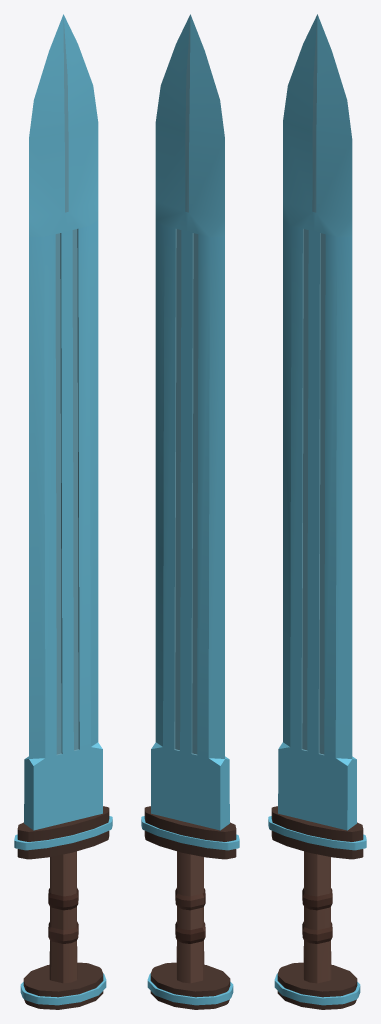
File: SM_Sword18_Spatha_6Fantasy_Blue.fbx
3 views of the same model, side by side, from view 1: azimuth 30°, elevation 25°; view 2: azimuth 150°, elevation 25°; view 3: azimuth 330°, elevation 25° (orthographic).
Visible parts, largest first — view 1: Cube.344, Cylinder.460, Cylinder.463, Cylinder.462, Cylinder.464, Cylinder.465; view 2: Cube.344, Cylinder.460, Cylinder.463, Cylinder.462, Cylinder.464, Cylinder.465; view 3: Cube.344, Cylinder.460, Cylinder.463, Cylinder.462, Cylinder.464, Cylinder.465.
Part boxes in pixels (<box>): Cube.344: <box>24,14,102,830</box>; Cylinder.460: <box>48,851,78,983</box>; Cylinder.463: <box>17,806,109,859</box>; Cylinder.462: <box>23,962,103,1009</box>; Cylinder.464: <box>14,816,112,850</box>; Cylinder.465: <box>20,973,106,1005</box>; Cube.344: <box>151,14,229,830</box>; Cylinder.460: <box>175,851,205,983</box>; Cylinder.463: <box>144,806,236,859</box>; Cylinder.462: <box>150,962,230,1009</box>; Cylinder.464: <box>141,816,239,850</box>; Cylinder.465: <box>147,973,233,1005</box>; Cube.344: <box>278,14,356,830</box>; Cylinder.460: <box>302,851,332,983</box>; Cylinder.463: <box>271,806,363,859</box>; Cylinder.462: <box>277,962,357,1009</box>; Cylinder.464: <box>268,816,366,850</box>; Cylinder.465: <box>274,973,360,1005</box>.
Bounding box in the file's own units: 0.0762 × 0.7359 × 0.0466.
